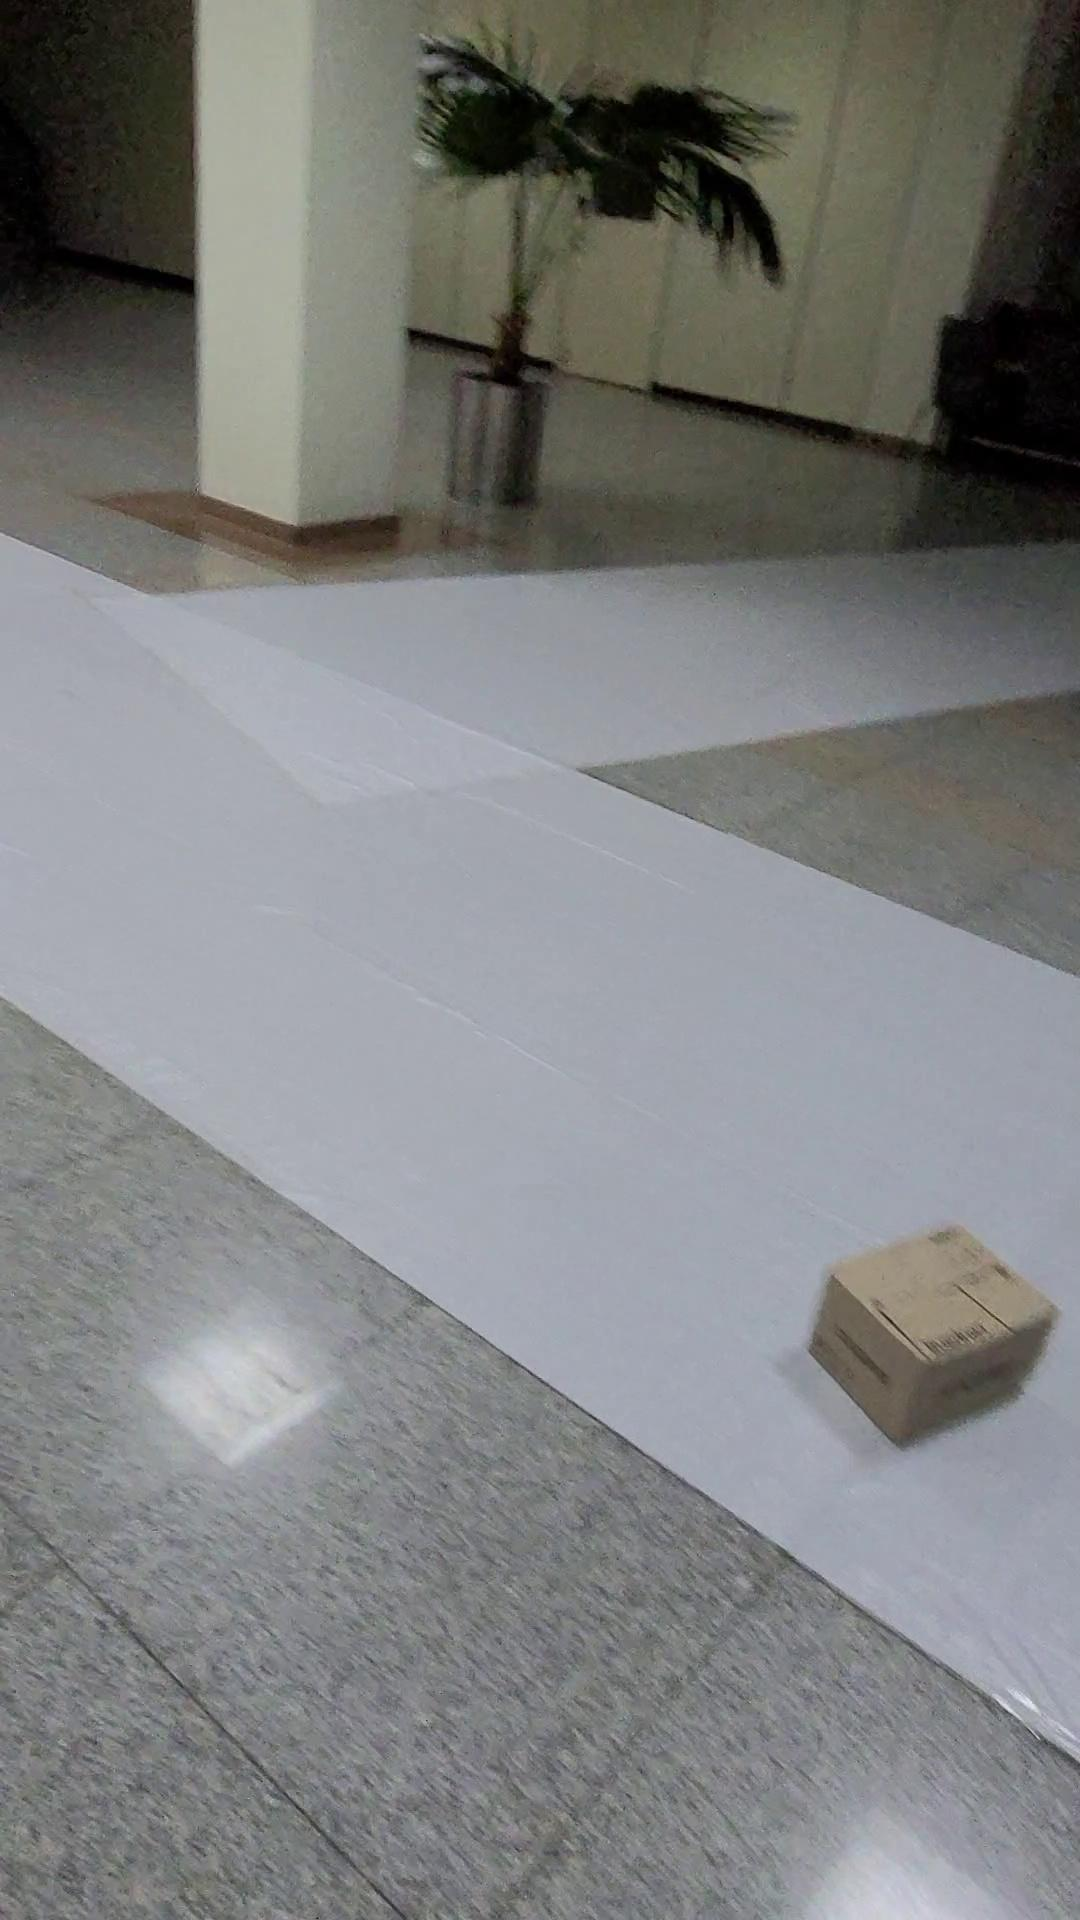Box: (778, 1228, 1059, 1487)
